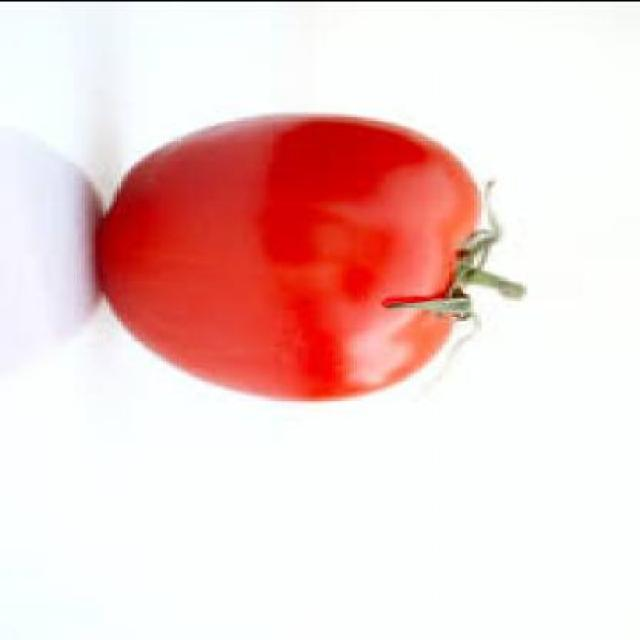BIODEGRADABLE: (96, 114, 530, 400)
